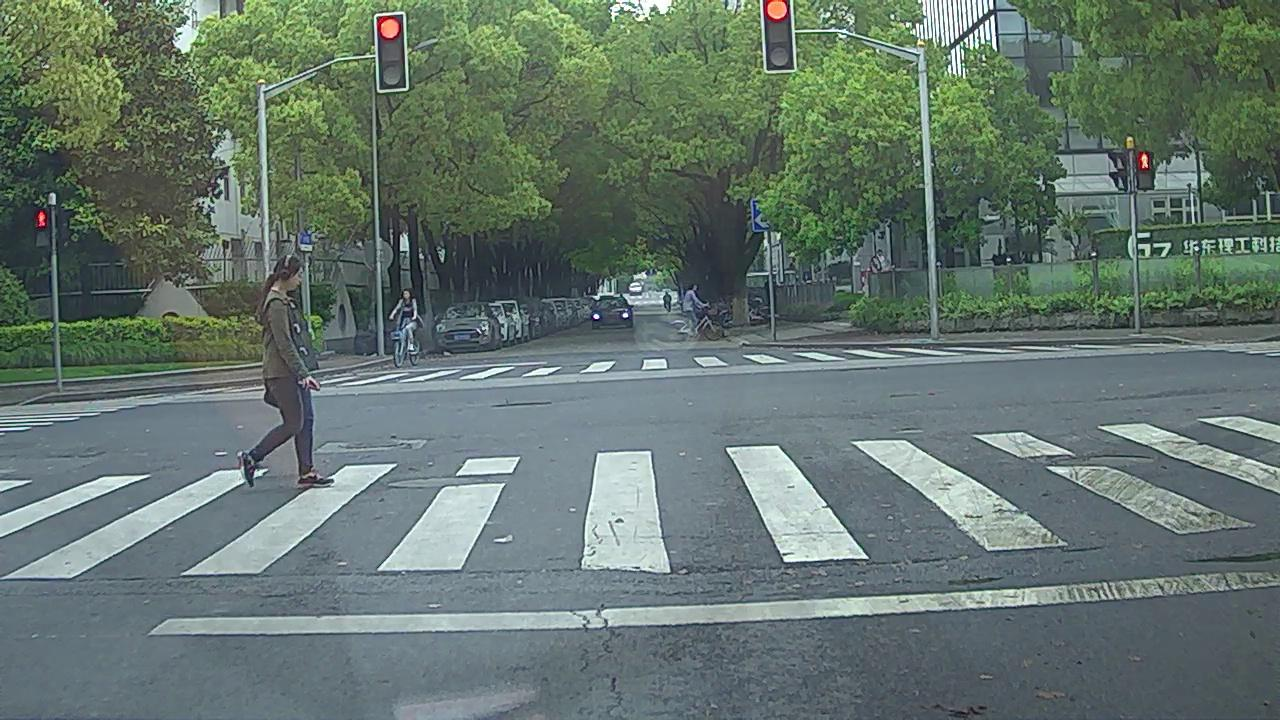traffic_light: (376, 13, 409, 89), (763, 1, 796, 71)
